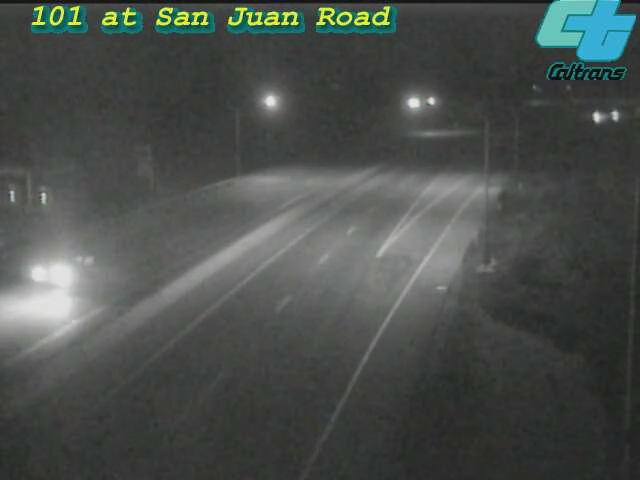vehicle: (7, 235, 87, 315), (571, 92, 621, 142), (591, 90, 640, 140)
